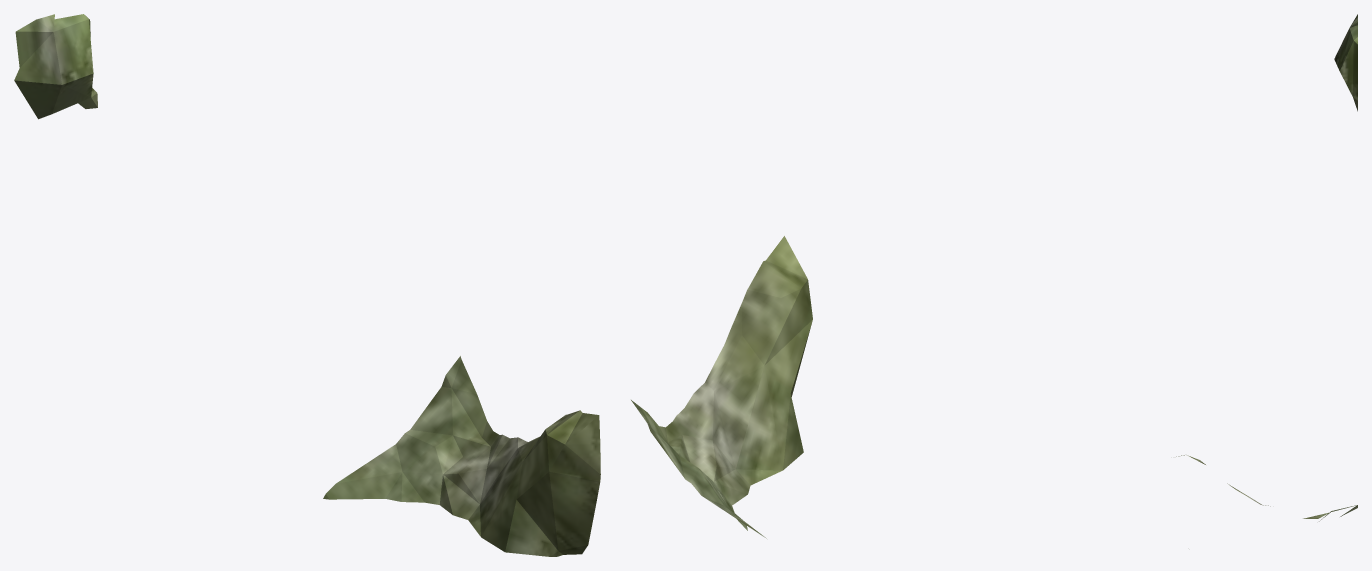
The picture shows the model from 3 angles, left to right: view 1: azimuth 30°, elevation 25°; view 2: azimuth 150°, elevation 25°; view 3: azimuth 270°, elevation 25°; orthographic projection. The views are drawn at different scales.
Size of the model in its own units: 1.95 by 2.3 by 1.06.
Materials: 1 (1 with a texture image).
